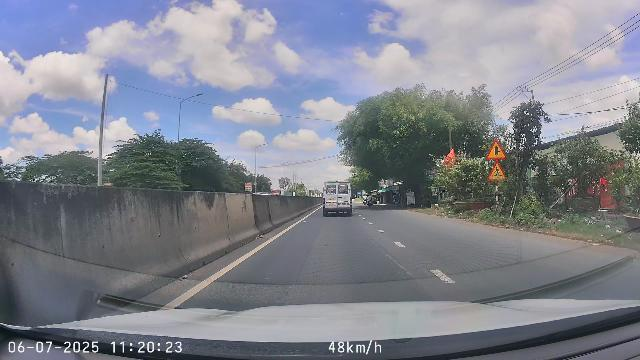207-giao-nhau-voi-duong-khong-uu-tien: (486, 139, 507, 160)
224-duong-nguoi-di-bo-cat-ngang: (487, 161, 506, 181)
